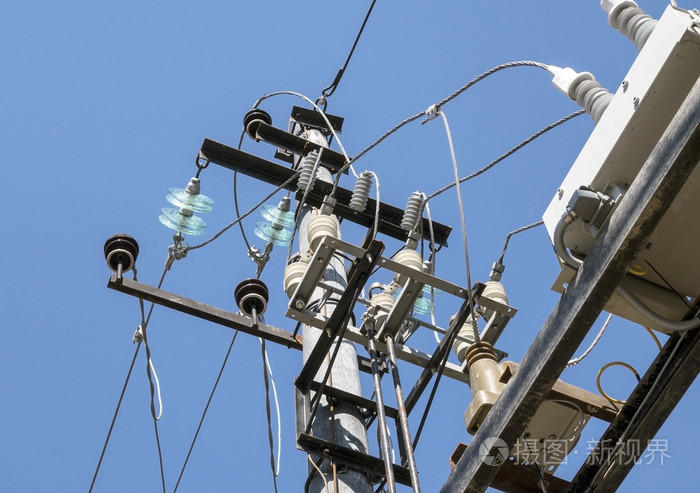insulator: (155, 186, 218, 235), (254, 207, 299, 246), (99, 233, 142, 271), (233, 277, 269, 317), (242, 109, 272, 139)
